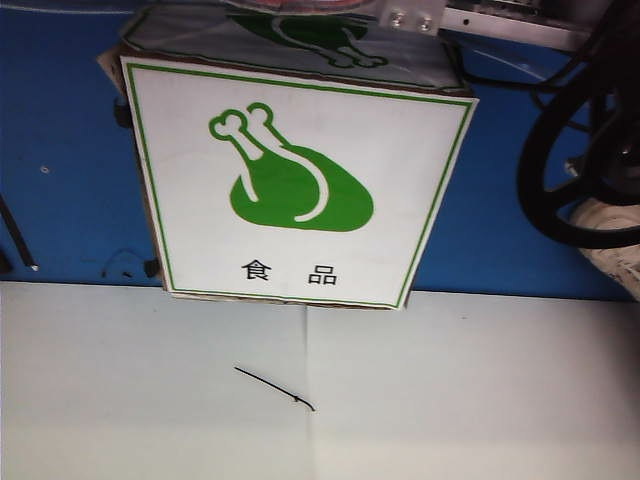Cube_food: (205, 97, 378, 296)
